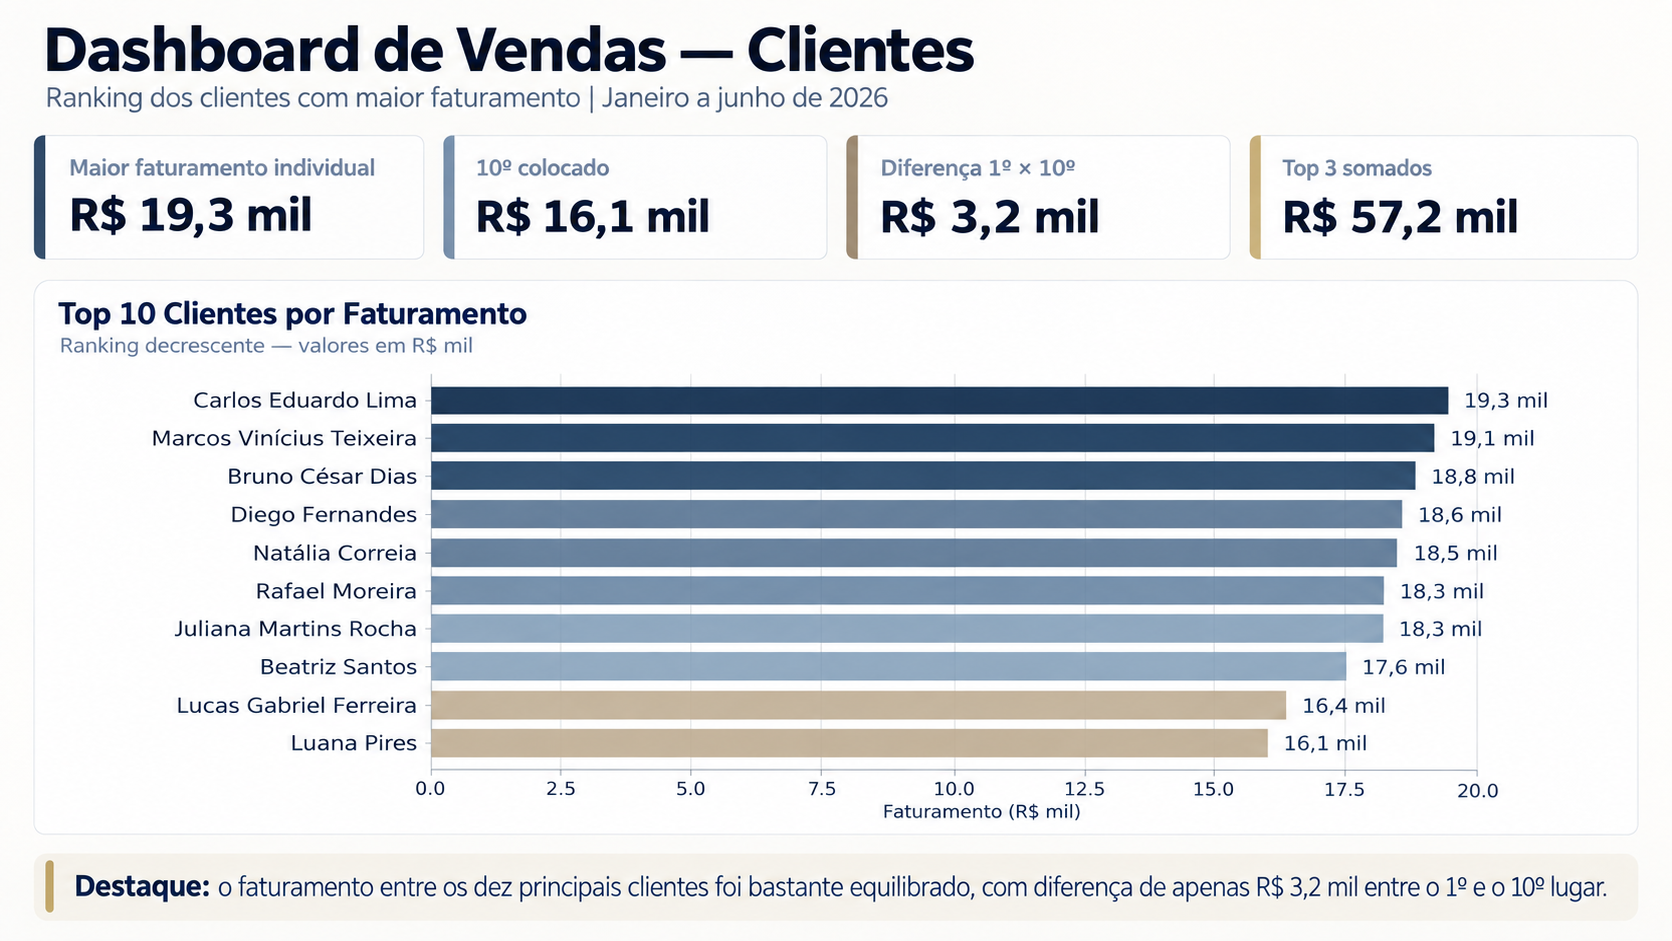

The dashboard page shown, as its layout file describes it:
{"tool":"powerbi","page":{"name":"Análise Comercial","canvas":[1920,1080],"ordinal":1},"visuals":[{"type":"textbox","box":[10,0,1910,100],"z":0},{"type":"barChart","fields":{"Category":["dim_cliente.cliente"],"Y":["fato_vendas.Faturamento Líquido"]},"box":[6,540,850,540],"z":1000},{"type":"barChart","fields":{"Category":["dim_produto.categoria"],"Y":["fato_vendas.Desconto Total"]},"box":[856,100,1064,440],"z":2000},{"type":"columnChart","fields":{"Category":["dim_produto.produto"],"Y":["fato_vendas.Itens Vendidos"]},"box":[0,100,856,440],"z":3000},{"type":"clusteredColumnChart","fields":{"Category":["dim_produto.categoria"],"Y":["fato_vendas.Ticket Médio"]},"box":[856,540,1064,540],"z":3001}]}

Visuals, with their boxes in screenshot pixels (x1, y1, x2, y2), scaled from the page's 1920x1080 canvas onto the 1672x941 screenshot:
textbox: crop(9, 0, 1671, 87)
barChart - dim_cliente.cliente x fato_vendas.Faturamento Líquido: crop(5, 470, 745, 940)
barChart - dim_produto.categoria x fato_vendas.Desconto Total: crop(745, 87, 1671, 470)
columnChart - dim_produto.produto x fato_vendas.Itens Vendidos: crop(0, 87, 745, 470)
clusteredColumnChart - dim_produto.categoria x fato_vendas.Ticket Médio: crop(745, 470, 1671, 940)
